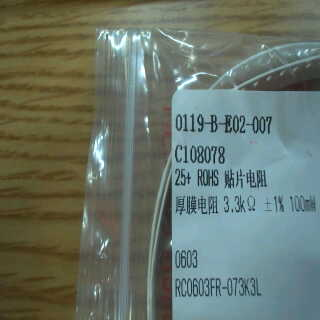3.3kO: (220, 193, 258, 214)
